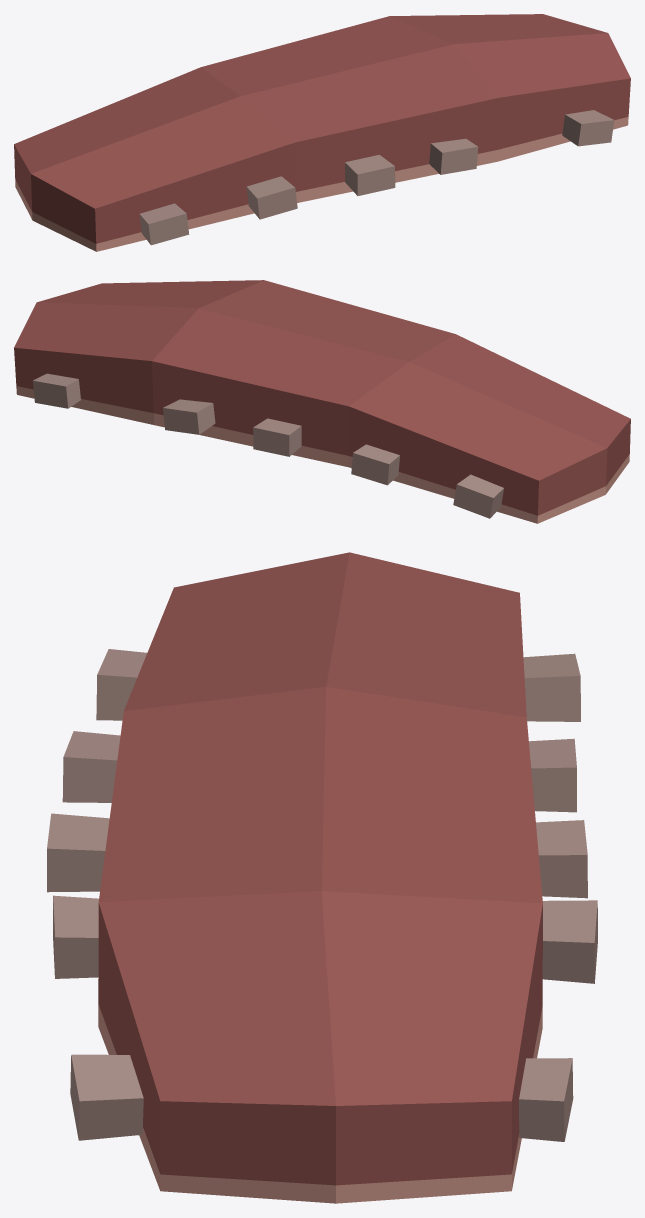
File: porkRib.fbx
3 renders of one model, top to bottom at view 1: azimuth 30°, elevation 25°; view 2: azimuth 150°, elevation 25°; view 3: azimuth 270°, elevation 25°, orthographic. The views are drawn at different scales.
Parts seen in each view (by area): view 1: porkRib; view 2: porkRib; view 3: porkRib.
Boxes of the visible parts, x1,y1,x2,y2 form: porkRib: (14, 14, 630, 251); porkRib: (14, 280, 630, 523); porkRib: (47, 552, 597, 1203).
Bounding box in the file's own units: 51.26 × 7.22 × 21.31.
Materials: 1 (1 with a texture image).
